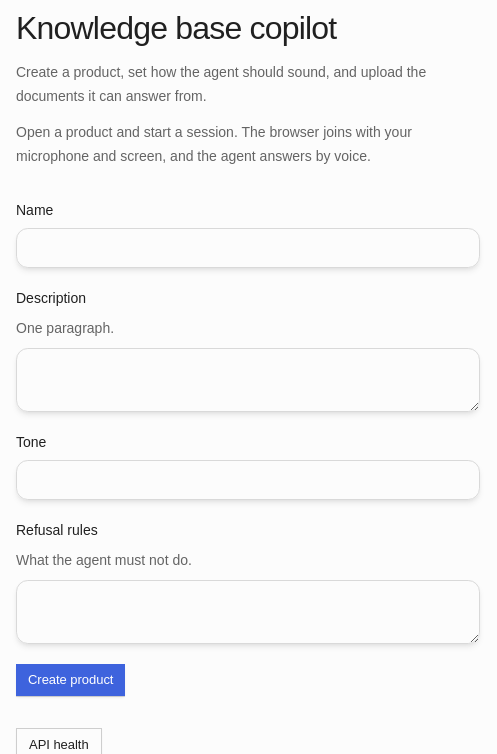
Test: create survives a response that is not a product
Type "Acme" into the field labelled "Name" at (248, 248), box [16,228,480,268]
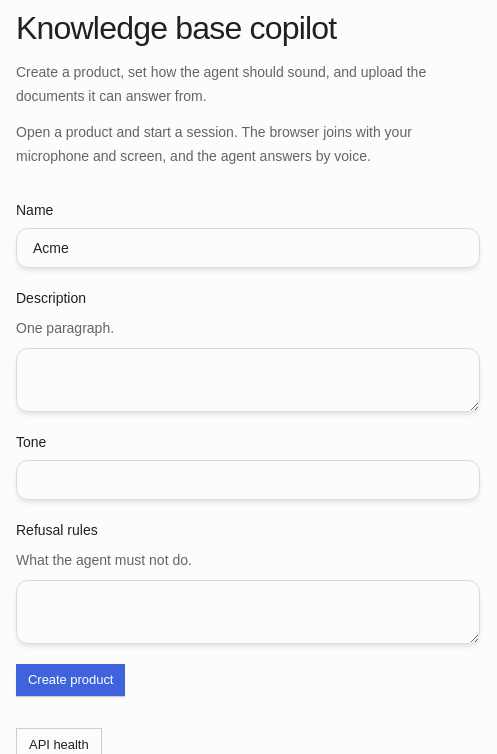
Type "Acme helps customers reset passwords." into the text box labelled "Description" at (248, 380), box [16,348,480,412]
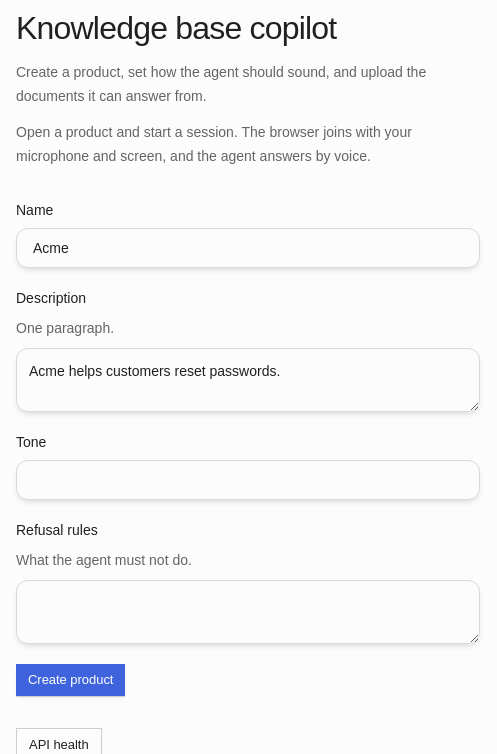
Type "calm and brief" into the field labelled "Tone" at (248, 480), box [16,460,480,500]
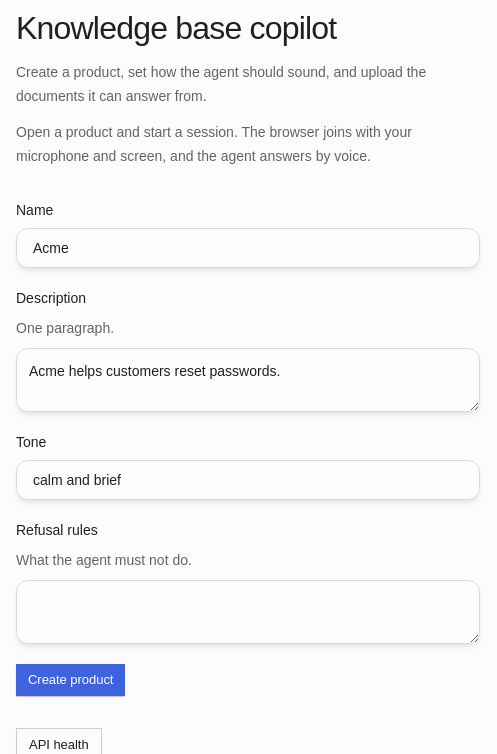
Type "Do not invent a refund policy." into the text box labelled "Refusal rules" at (248, 612), box [16,580,480,644]
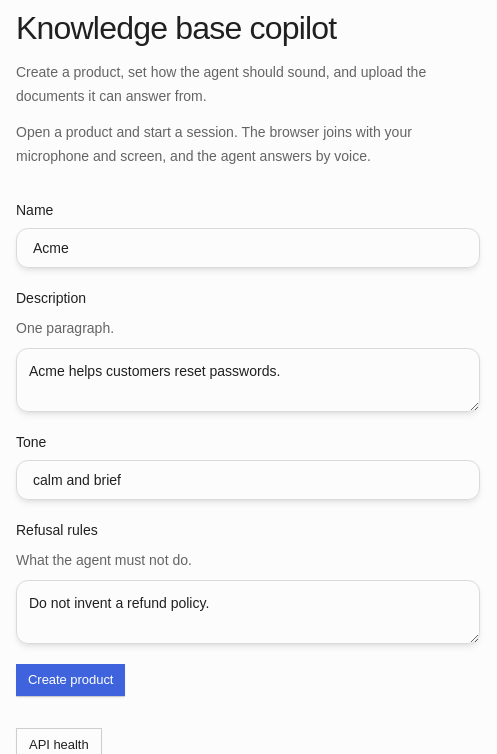
Click the button "Create product" at (71, 680), box [16,664,126,696]
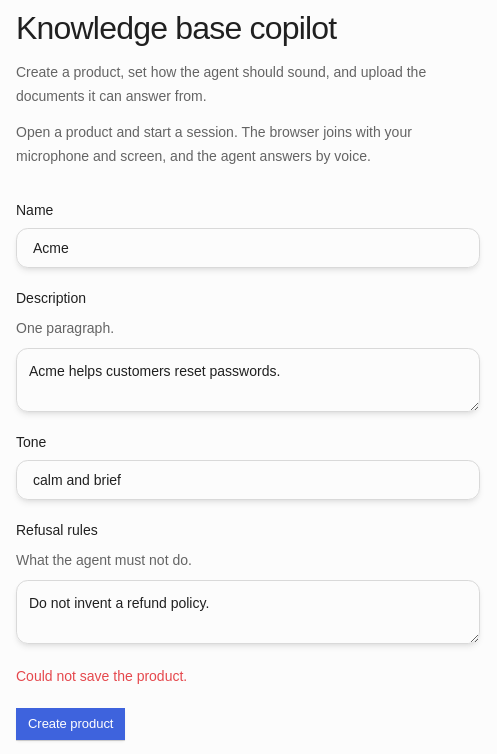
Now the message reads "Could not save the product.", box [16,668,187,684]
